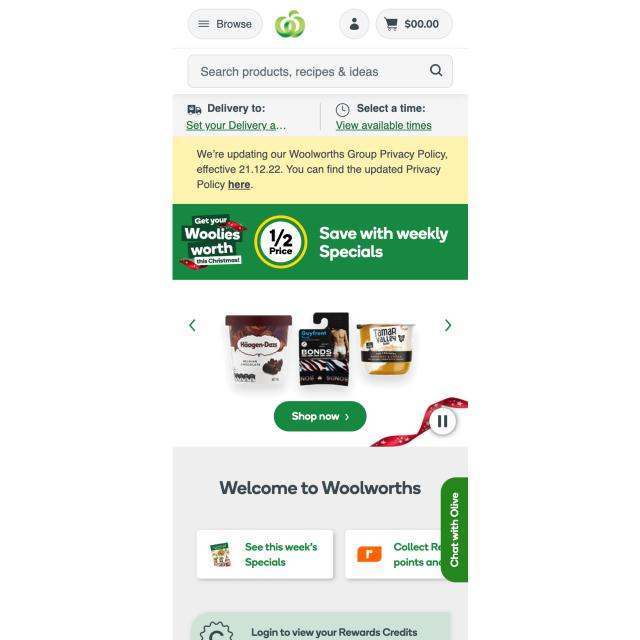input: (187, 53, 455, 89)
logo: (274, 9, 307, 38)
navigation: (188, 8, 264, 39)
